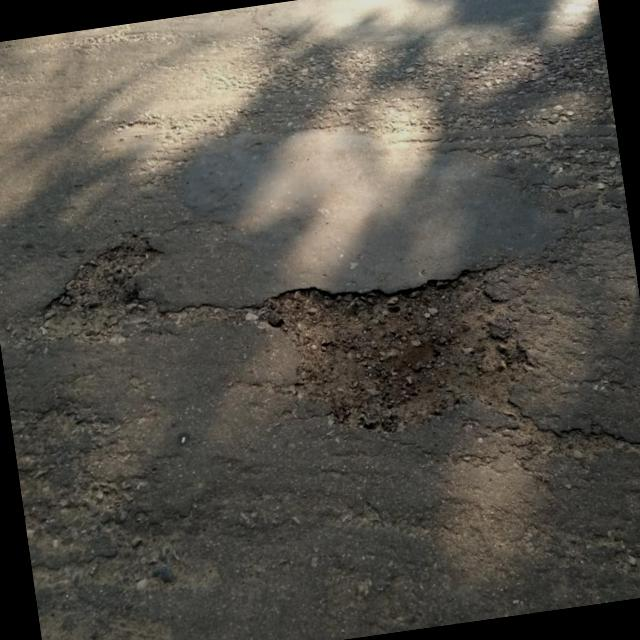Lubang: (259, 267, 534, 431), (35, 236, 178, 343)
